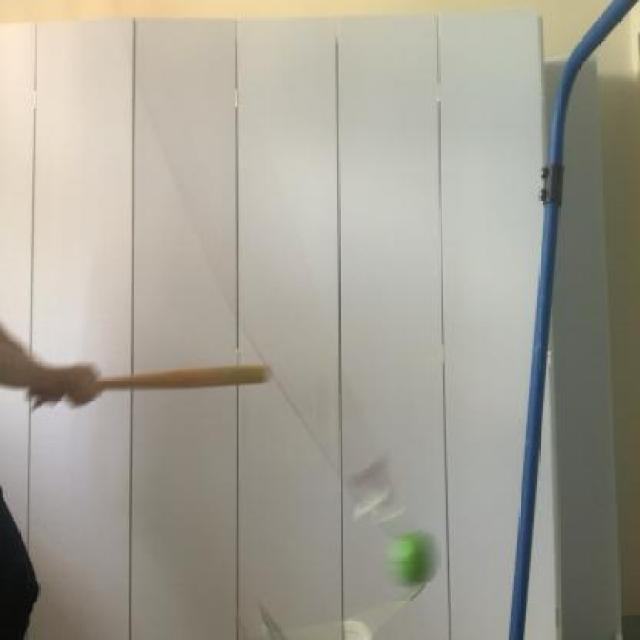baseball: (383, 521, 455, 607)
